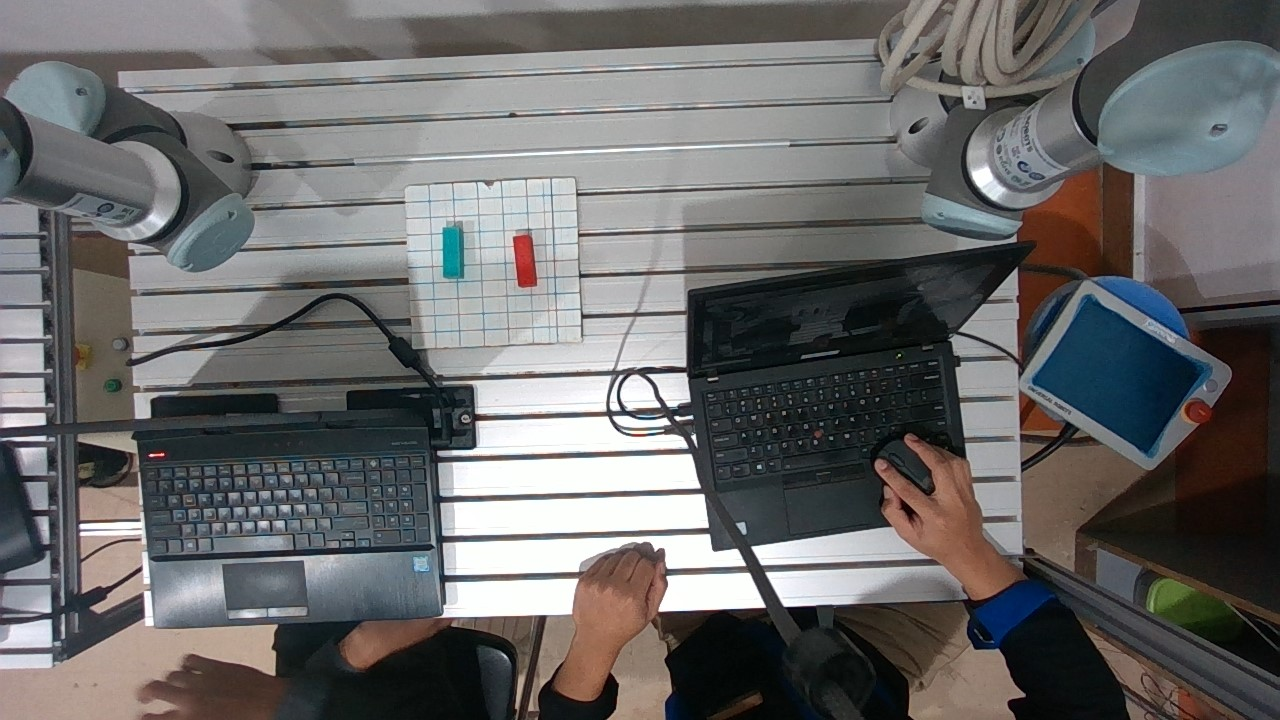box: (427, 213, 478, 289), (501, 222, 542, 294)
